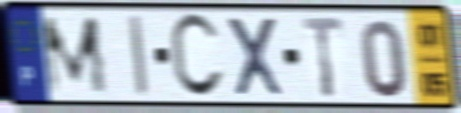0: (358, 14, 410, 101)
C: (167, 10, 227, 102)
I: (127, 12, 151, 100)
M: (38, 13, 111, 97)
T: (299, 14, 347, 100)
X: (223, 14, 288, 99)
